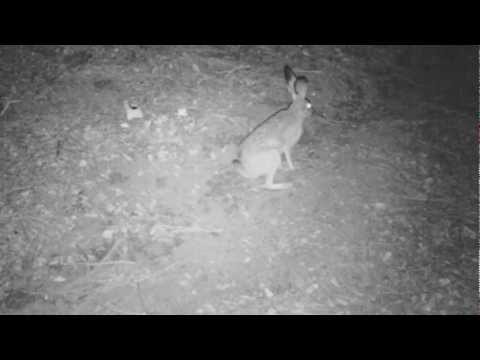rabbit: (235, 63, 321, 201)
